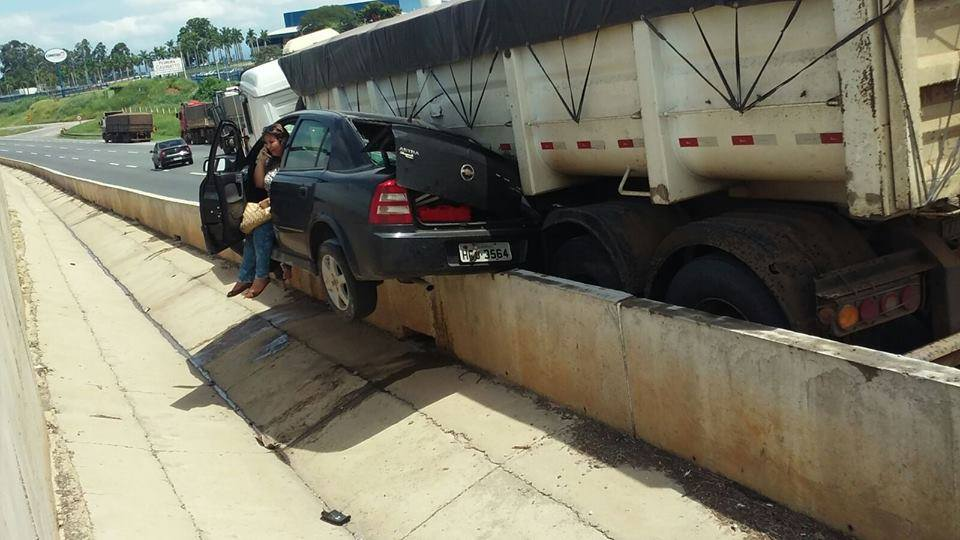phone: (257, 143, 268, 163)
